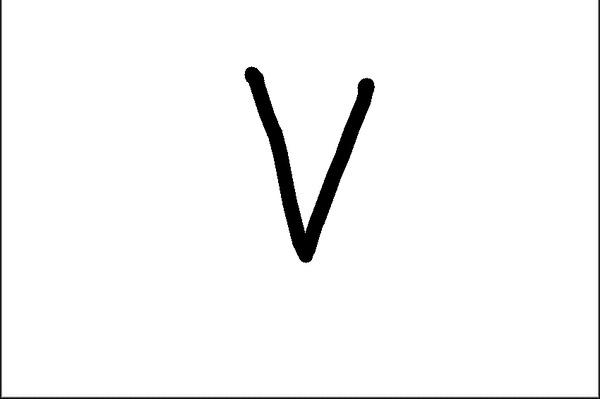V: (227, 56, 382, 267)
